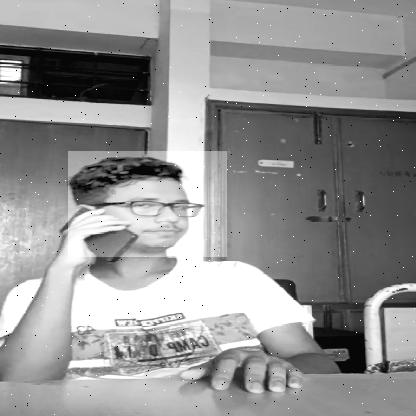Distracted: (68, 152, 227, 258)
